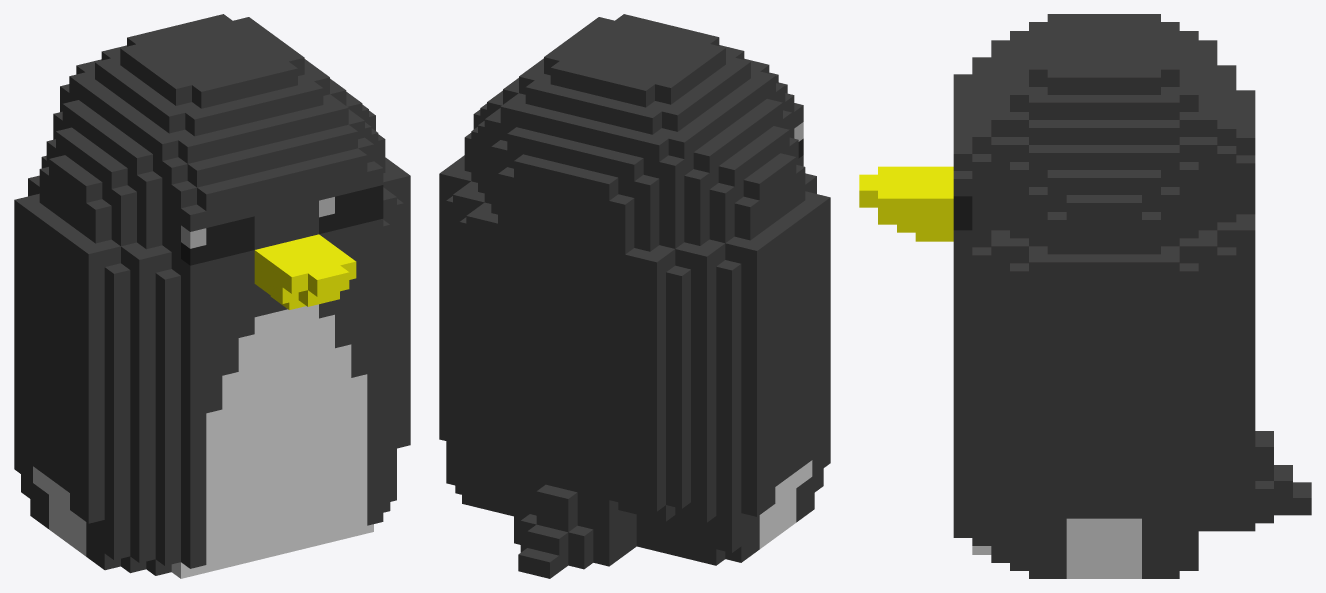
The model's file is penguin06_body.obj.
3 renders of one model, left to right at view 1: azimuth 30°, elevation 25°; view 2: azimuth 150°, elevation 25°; view 3: azimuth 270°, elevation 25°, orthographic. The views are drawn at different scales.
Bounding box in the file's own units: 2 × 2.7 × 2.4.
1 material, 1 textured.
